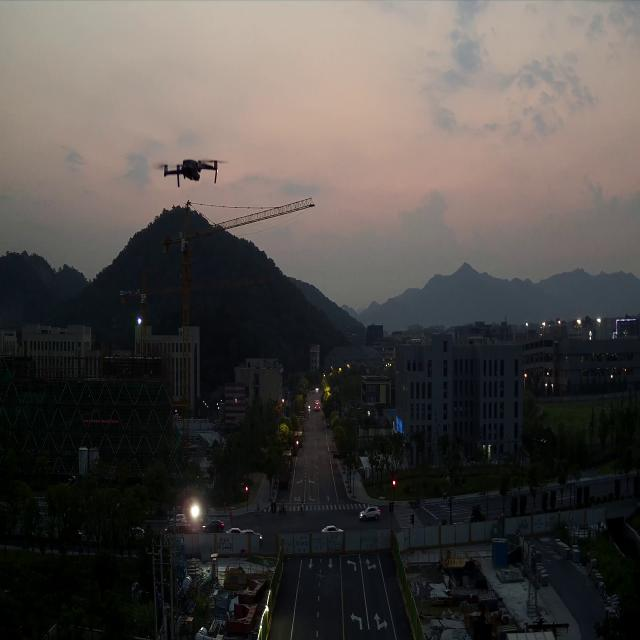UAV: (162, 154, 224, 190)
